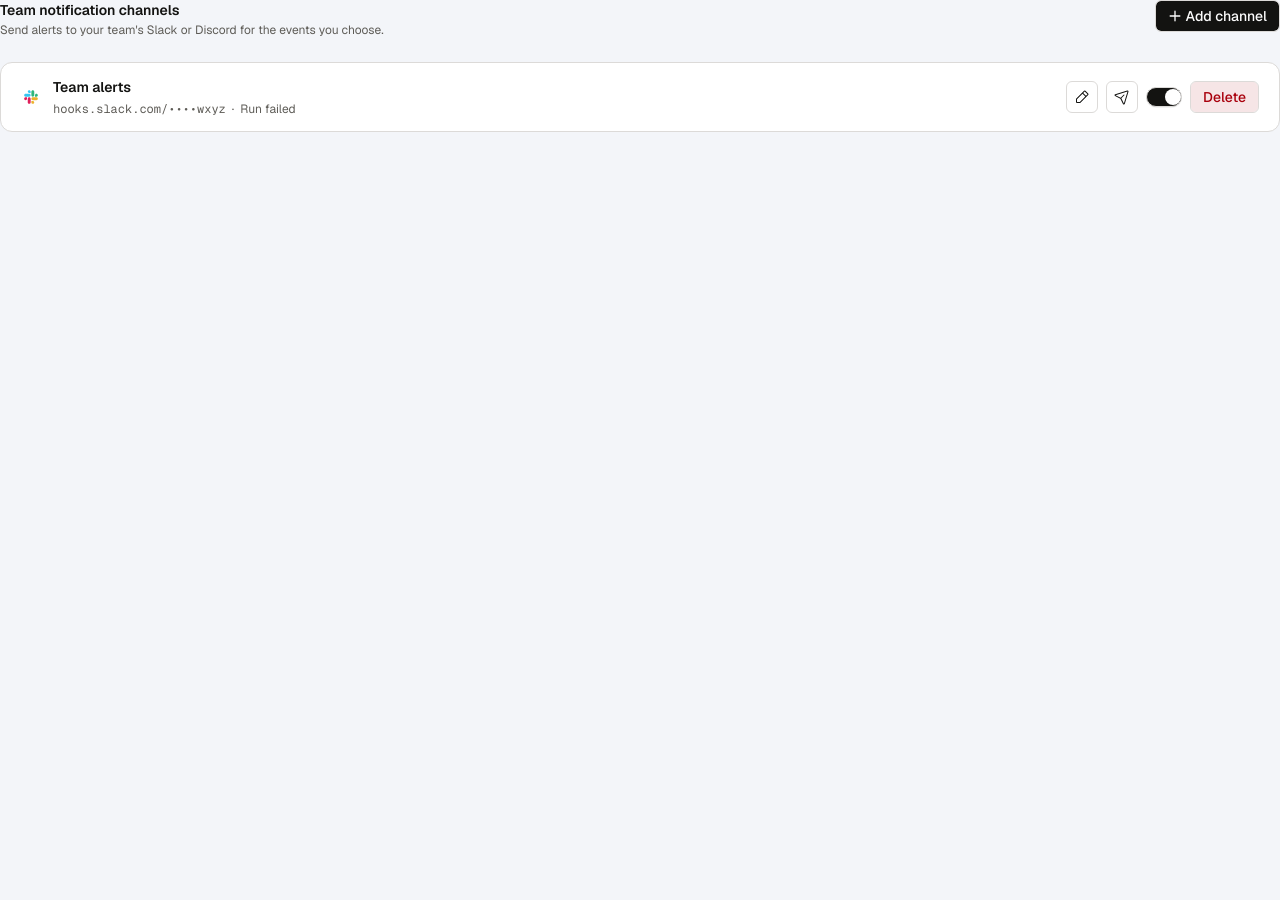
Scenario: NotificationWebhooksPanel › editing a channel › opens a dialog prefilled with the name and events, showing channel and url as read-only
Step 1. Click the button named "Edit Team alerts" → (1082, 97), box [1066,81,1098,113]
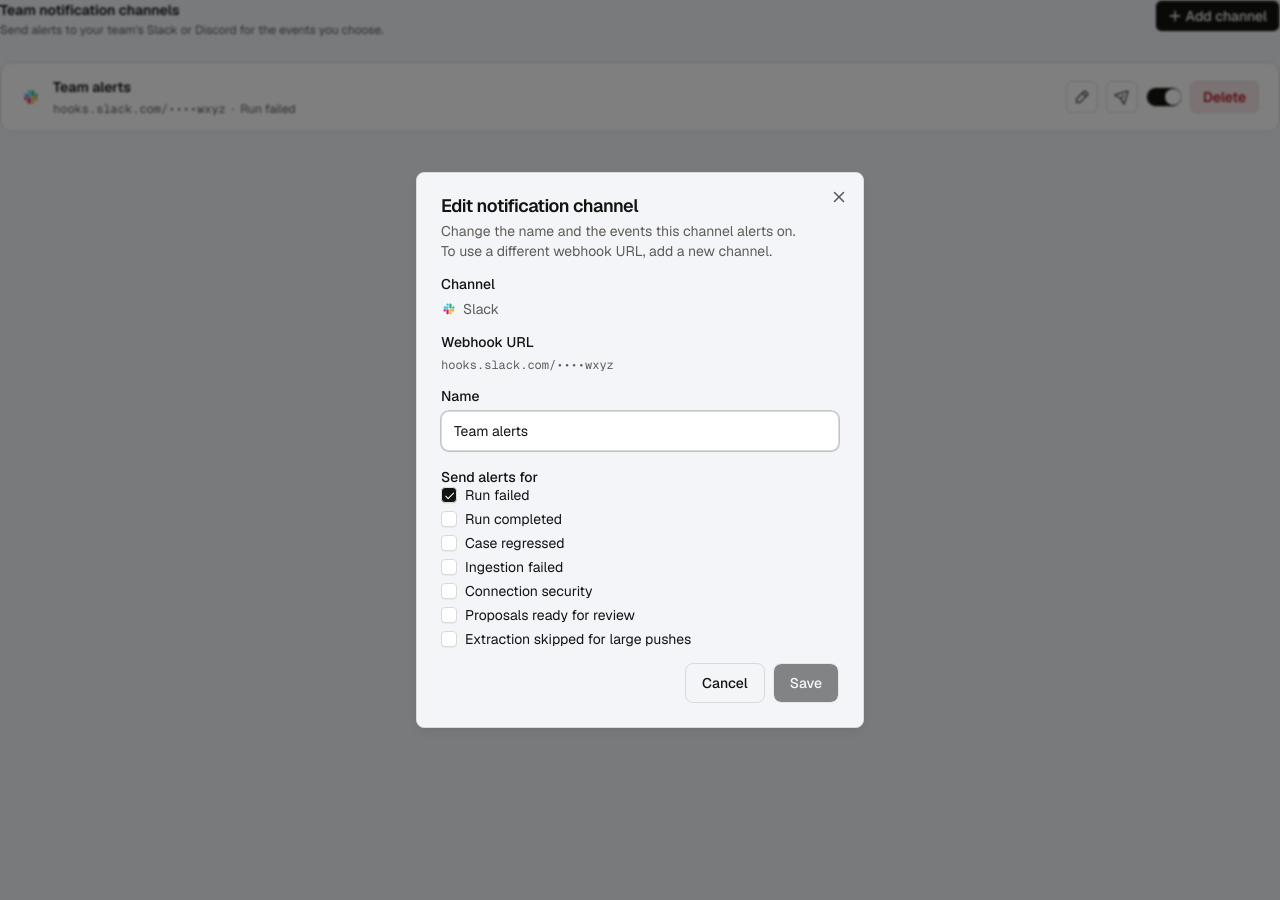
Expected: the heading "Edit notification channel" is shown, [441,194,638,217]
Expected: the field labelled "Name" holds "Team alerts", [441,411,839,451]
Expected: the 1st checkbox named "Run failed" is checked, [441,487,457,503]
